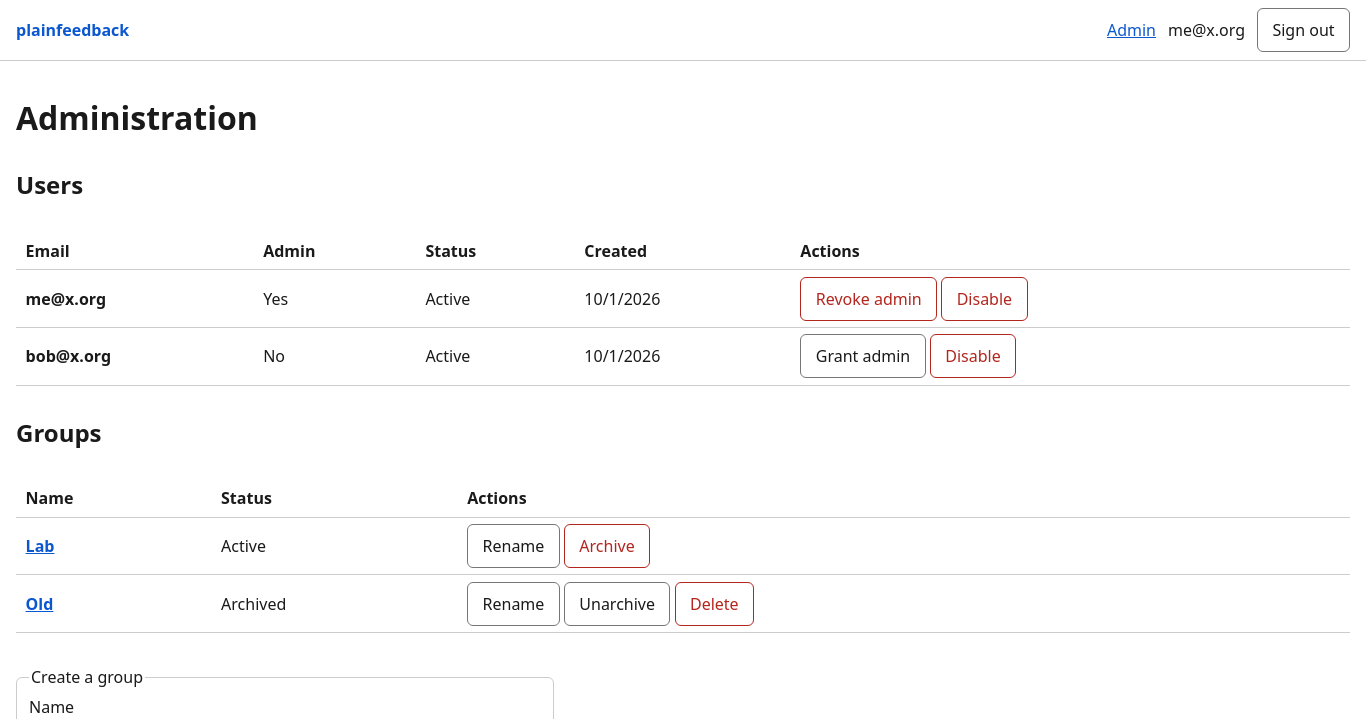
Test case: admin › shows the server's refusal when the API says forbidden
Expected: the table named "Users" is shown, [16, 232, 1350, 386]
Click the button with aria-label "Grant admin bob@x.org" at (863, 356), box [800, 334, 926, 378]
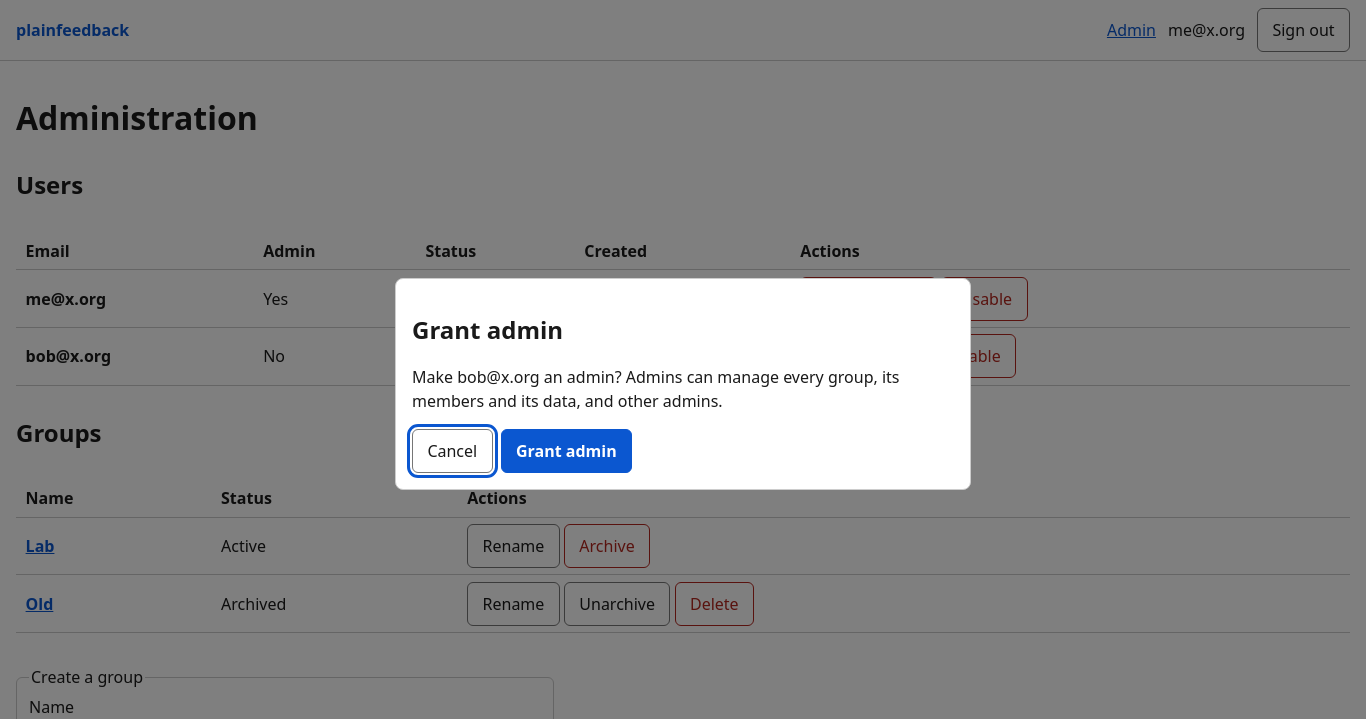
Click the 2nd button "Grant admin" at (566, 451), box [501, 429, 632, 473]
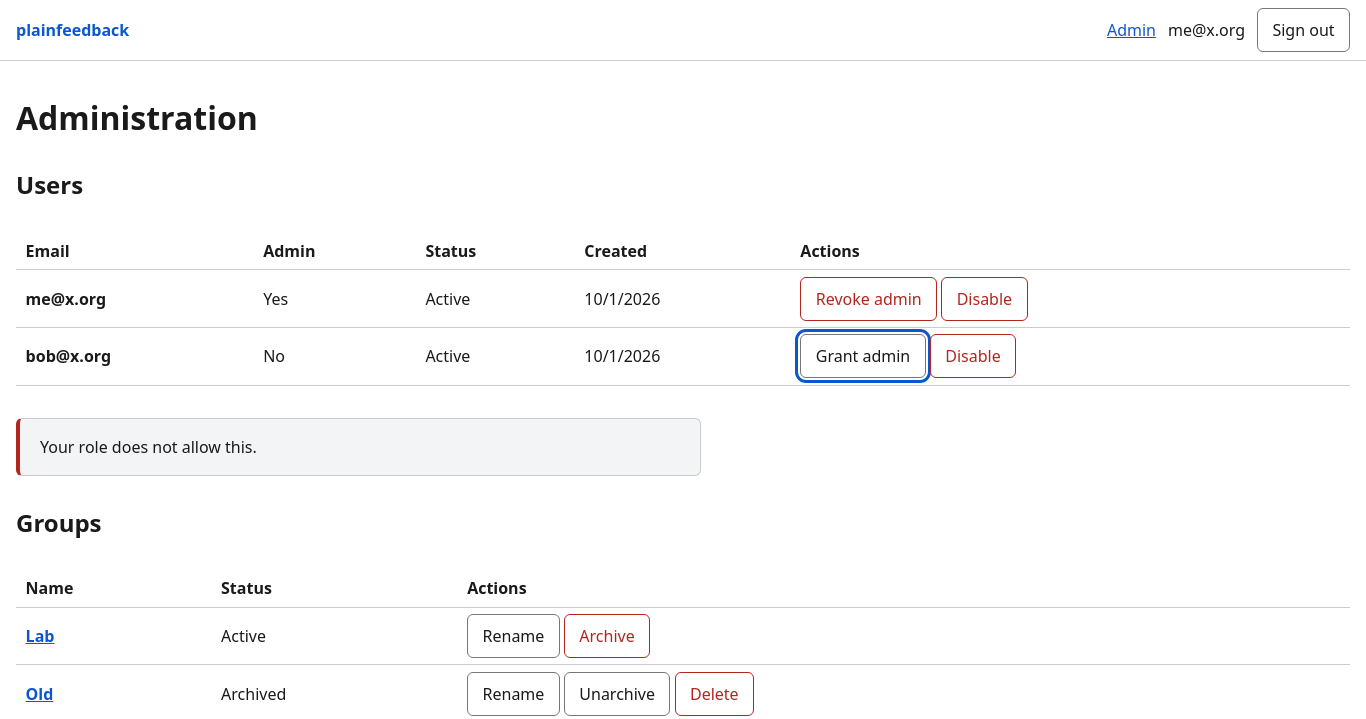
Expected: the text "Your role does not allow this." is shown, [16, 418, 701, 476]
